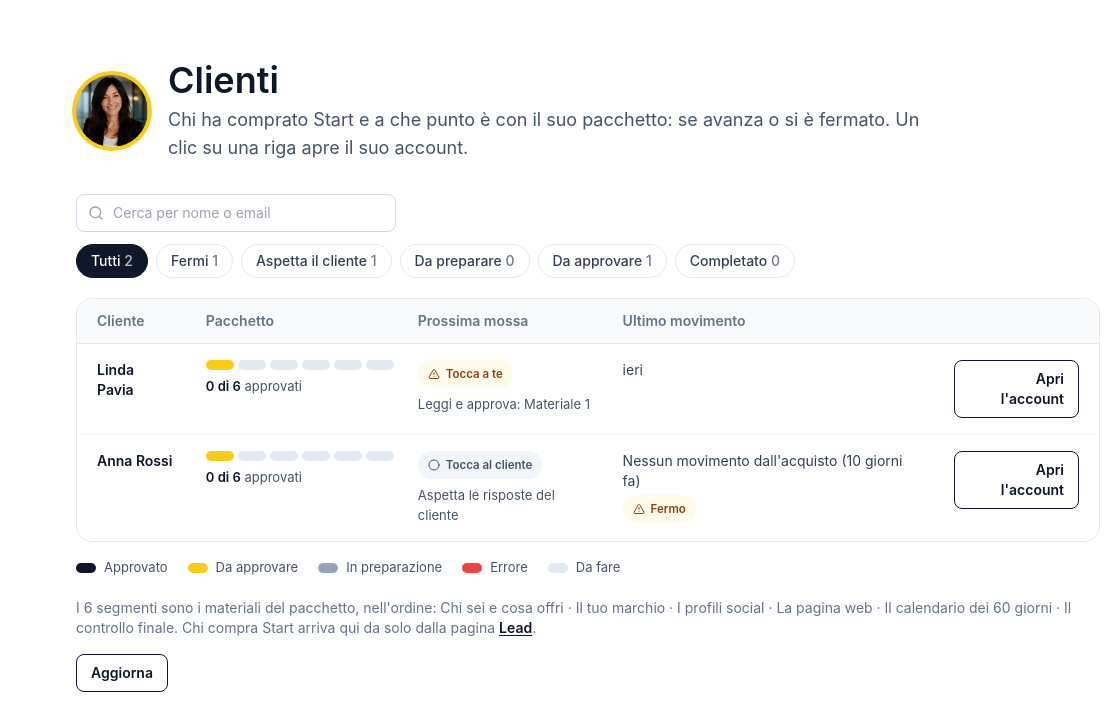
Scenario: un clic sulla riga apre l'account del cliente
Click the text "Linda Pavia" at x=588, y=389, box [77, 344, 1099, 434]
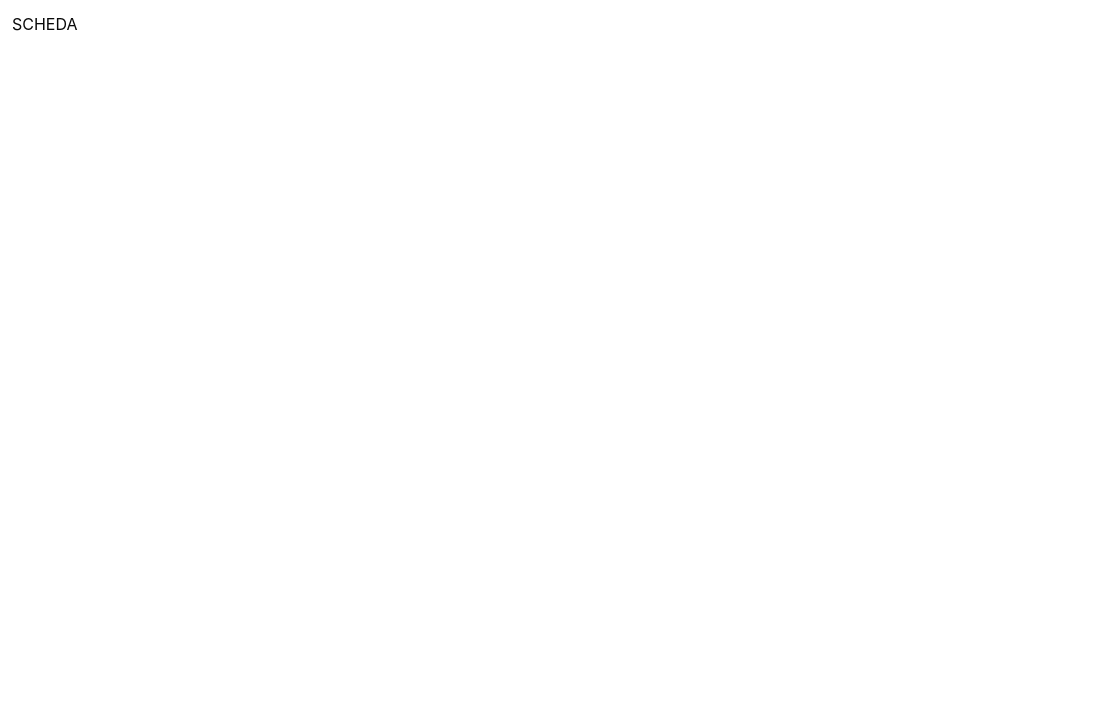
Expected: the text "SCHEDA" is shown, [12, 14, 78, 34]
